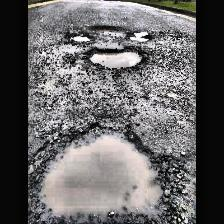pothole: (30, 119, 184, 223), (85, 48, 144, 68), (88, 25, 126, 33), (128, 29, 150, 41), (69, 34, 91, 43)
